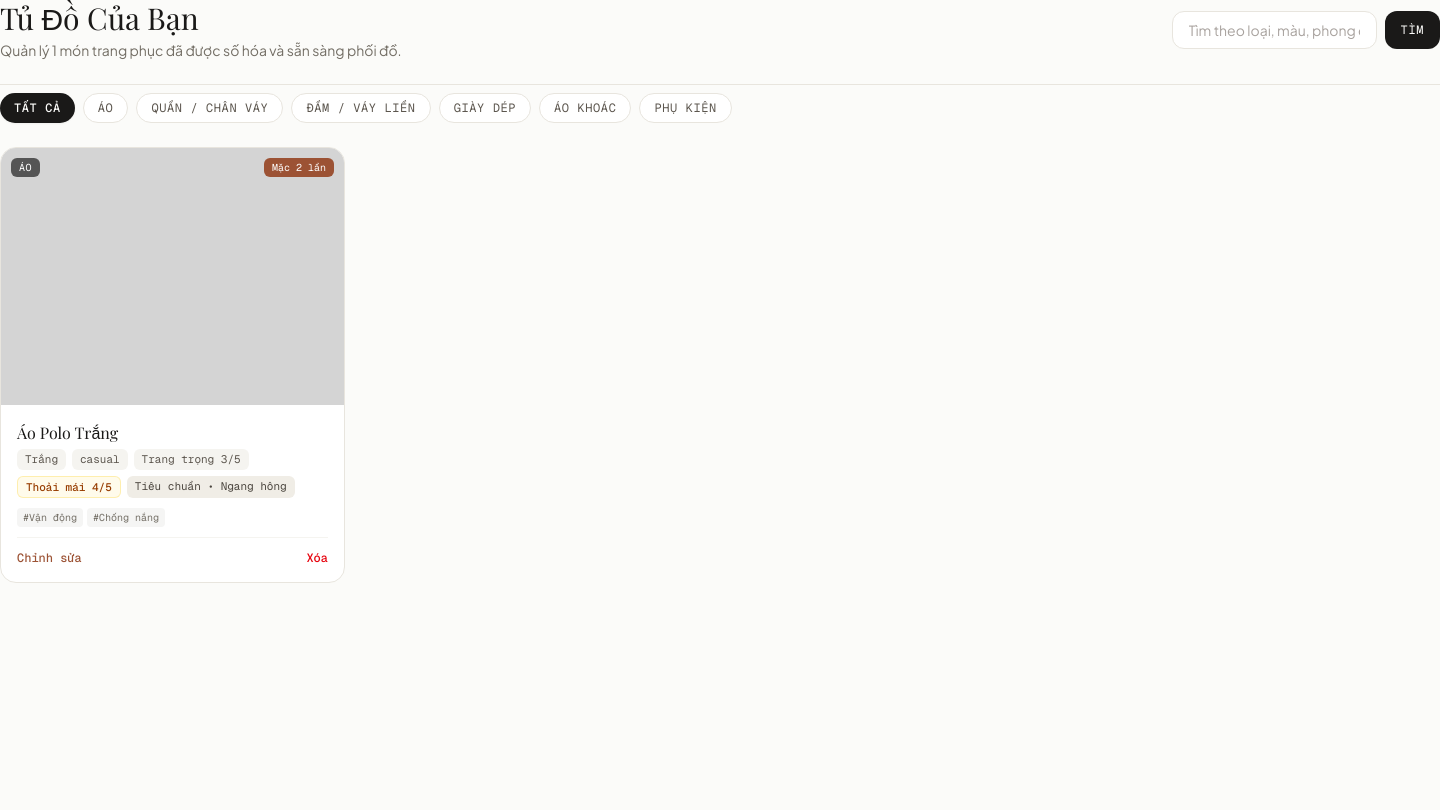
Test: WardrobeInventory Component › allows editing an item and saves changes
Click the button with test id "edit-item-item-1": x=49, y=558 [17,550,82,566]
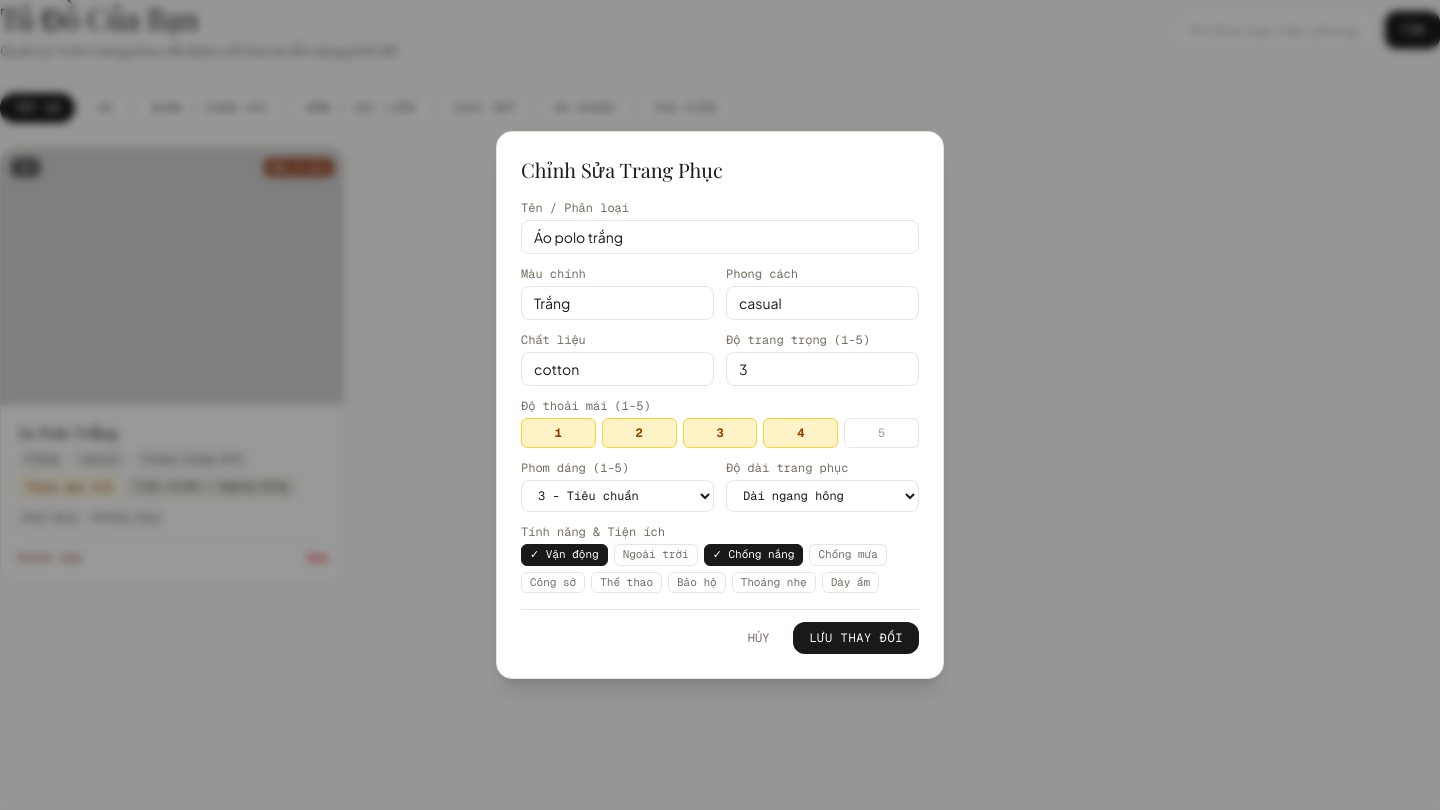
Check: the heading "Chỉnh Sửa Trang Phục" is shown, box [521,156,723,183]
Replace the text in the field with test id "edit-sub-category" with "Áo polo xanh navy": x=720, y=237 [521,220,919,254]
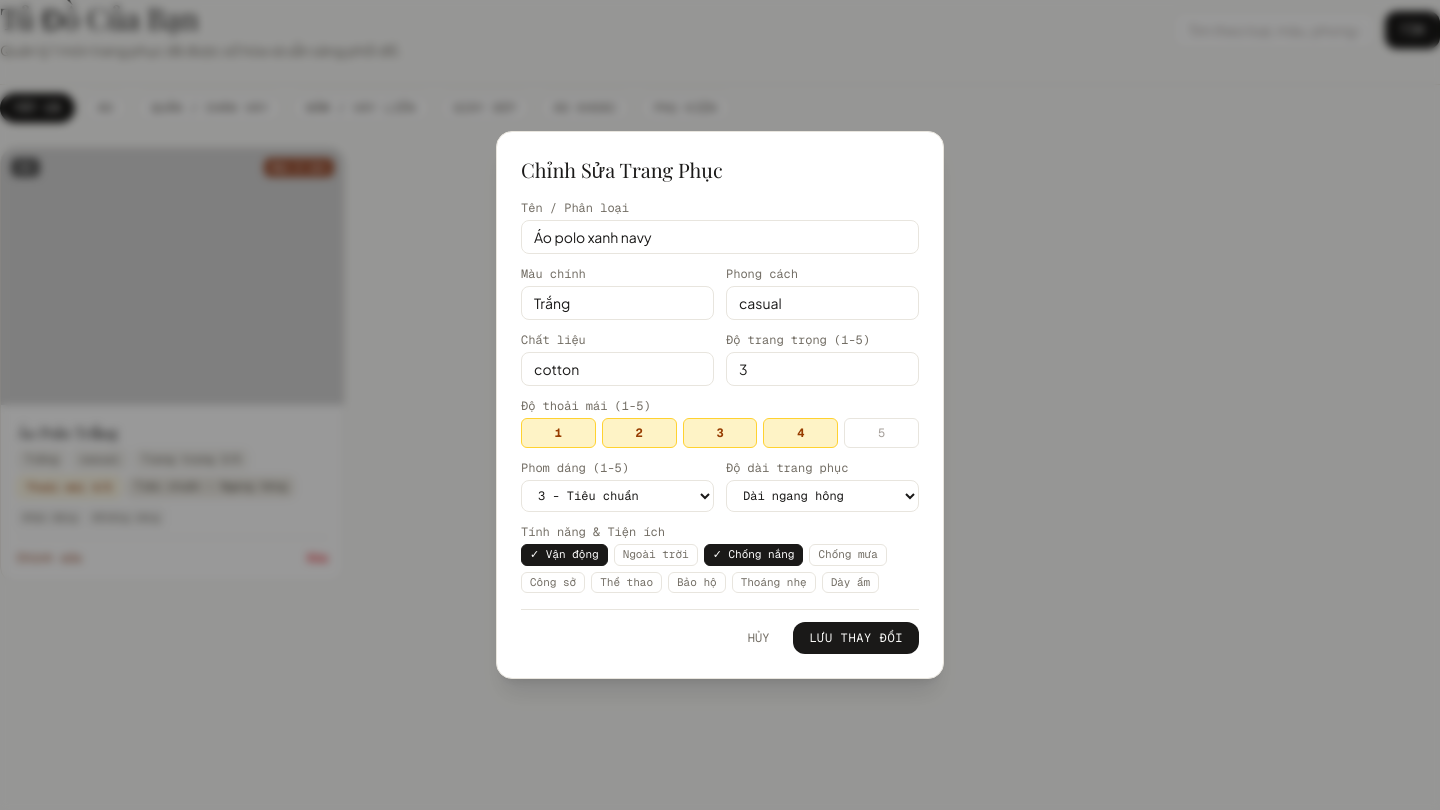
Replace the text in the field with test id "edit-primary-color" with "Xanh navy": x=618, y=303 [521,286,714,320]
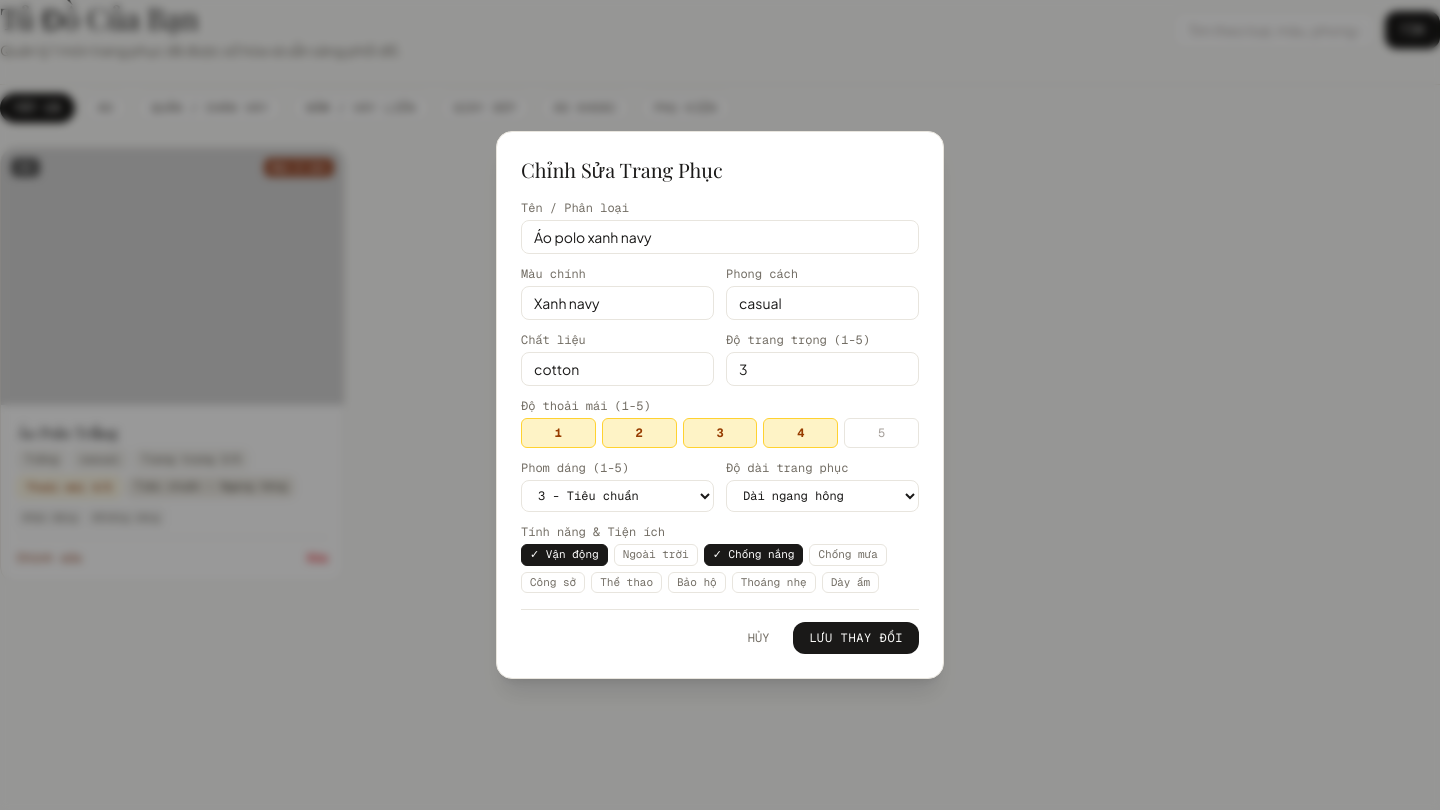
Click the button with test id "save-edit-btn": x=856, y=638 [793,622,919,654]
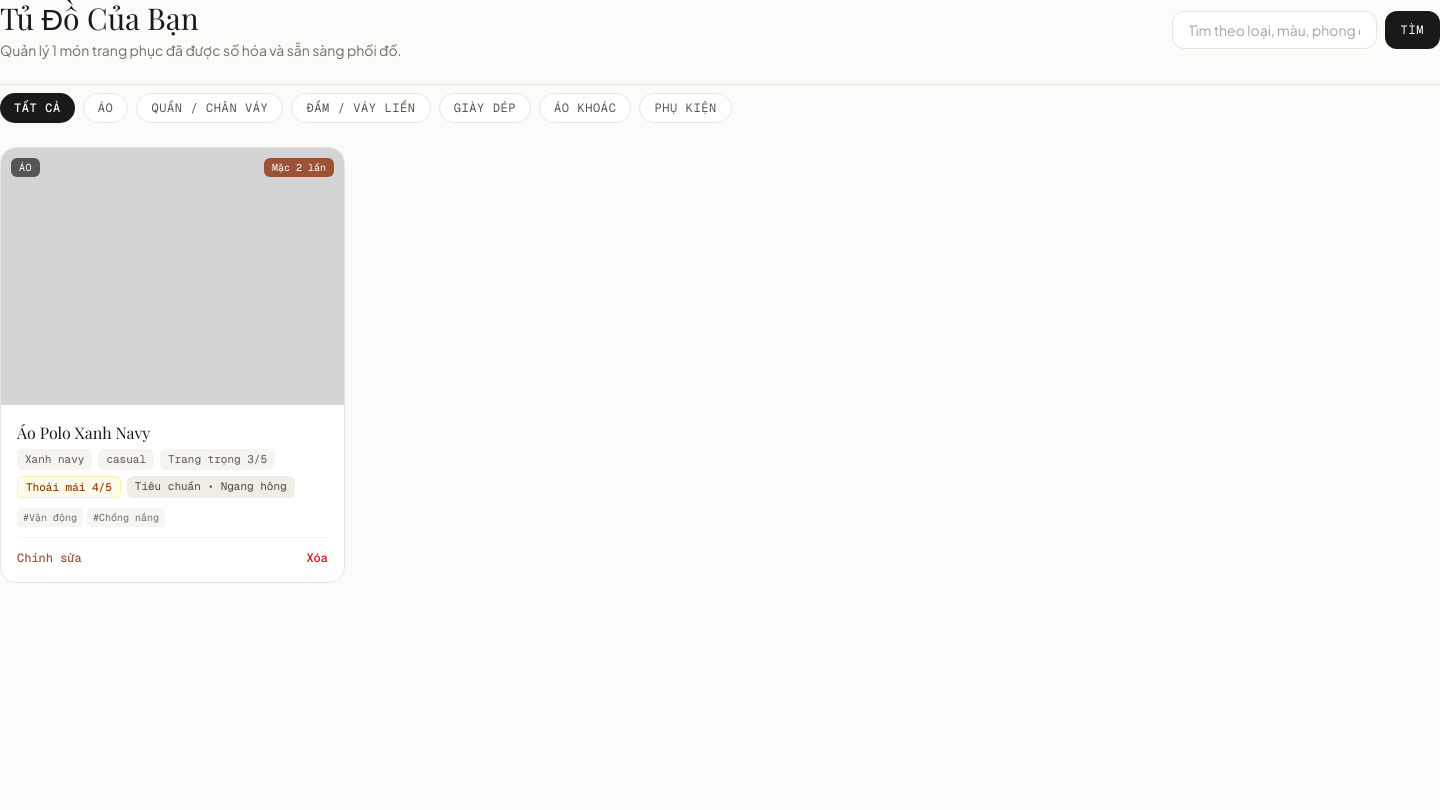
Check: the heading "Áo polo xanh navy" is shown, box [17,422,150,443]
